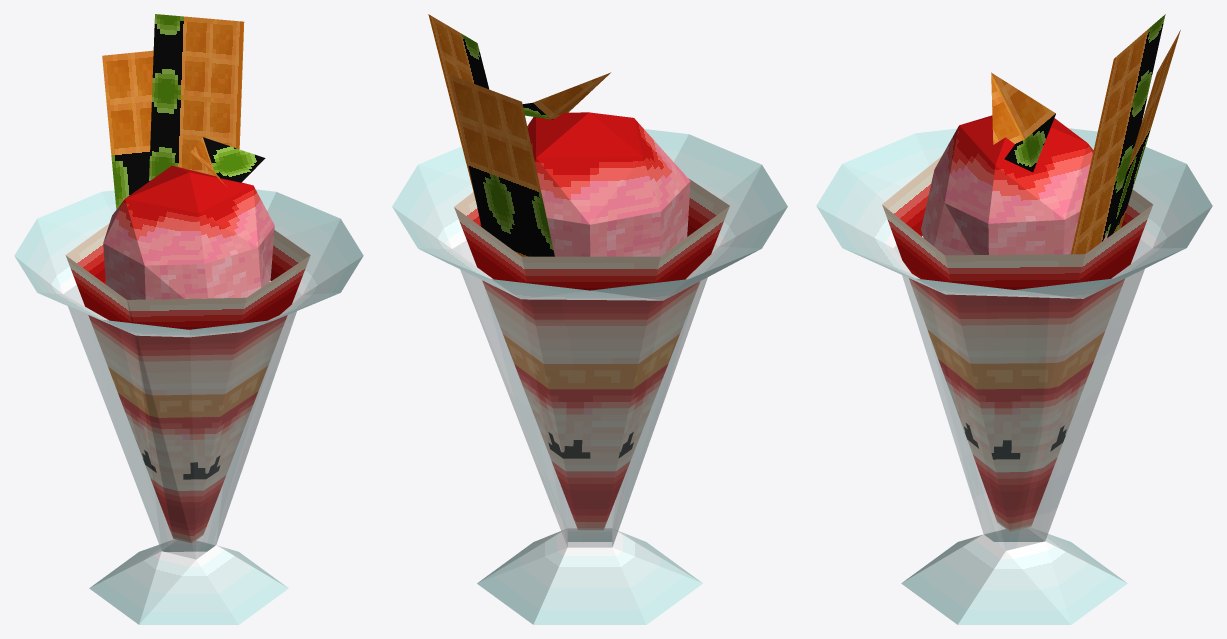
3 views of the same model, side by side, from view 1: azimuth 30°, elevation 25°; view 2: azimuth 150°, elevation 25°; view 3: azimuth 270°, elevation 25° (orthographic). The views are drawn at different scales.
Parts seen in each view (by area): view 1: parfait_r; view 2: parfait_r; view 3: parfait_r.
Part boxes in pixels (x1,y1,x2,y2): parfait_r: [14, 14, 363, 624]; parfait_r: [392, 14, 787, 624]; parfait_r: [816, 14, 1212, 624].
Bounding box in the file's own units: 0.6074 × 0.9897 × 0.6055.
Materials: 4 (4 with a texture image).
